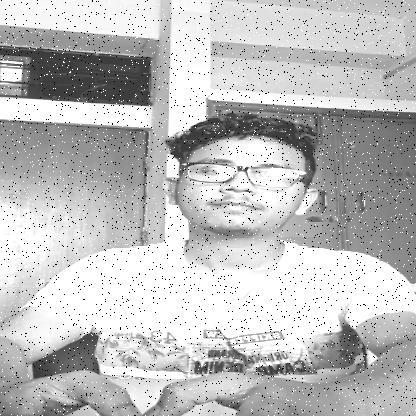Normal: (172, 101, 323, 237)
